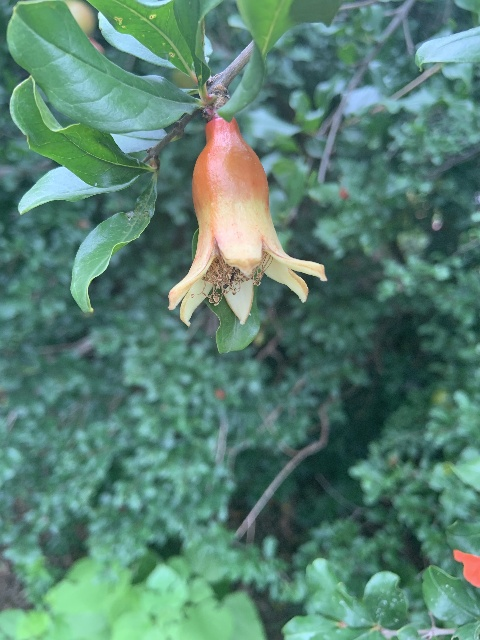early-fruit: (167, 114, 326, 326)
